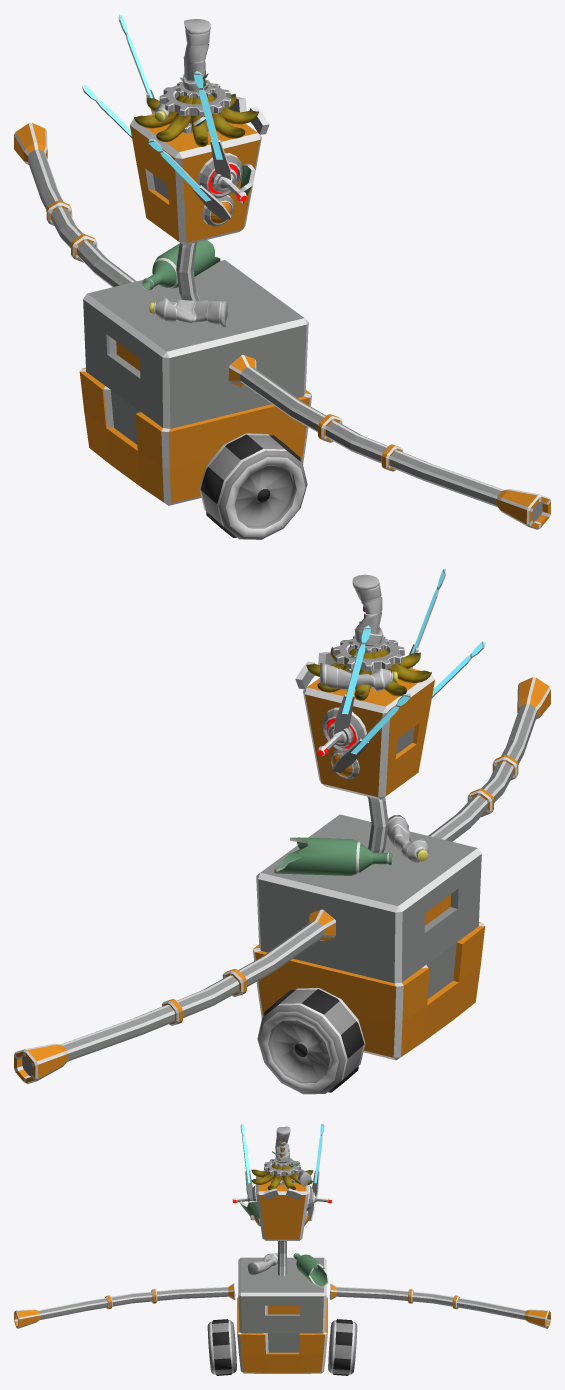
Rendered from Robot, antennas and perks.fbx.
The picture shows the model from 3 angles, top to bottom: view 1: azimuth 30°, elevation 25°; view 2: azimuth 150°, elevation 25°; view 3: azimuth 270°, elevation 25°; orthographic projection. The views are drawn at different scales.
Parts seen in each view (by area): view 1: Body, Arms_curved, Perk_02_2, Antenna_02, Perk_05_2, Perk_03_3, Perk_01_2, Antenna_03; view 2: Body, Arms_curved, Perk_02_2, Antenna_02, Perk_03_3, Perk_05_2, Perk_01_2, Antenna_03; view 3: Body, Arms_curved, Perk_02_2, Perk_03_3, Antenna_02, Perk_05_2, Perk_01_2, Antenna_03.
Boxes of the visible parts, x1=… form: Body: x1=79, y1=97, x2=311, y2=539; Arms_curved: x1=14, y1=123, x2=550, y2=529; Perk_02_2: x1=149, y1=19, x2=227, y2=327; Antenna_02: x1=82, y1=14, x2=234, y2=226; Perk_05_2: x1=134, y1=79, x2=258, y2=146; Perk_03_3: x1=142, y1=73, x2=255, y2=290; Perk_01_2: x1=159, y1=80, x2=231, y2=133; Antenna_03: x1=197, y1=153, x2=246, y2=201; Body: x1=252, y1=651, x2=485, y2=1094; Arms_curved: x1=14, y1=677, x2=550, y2=1084; Perk_02_2: x1=319, y1=574, x2=428, y2=862; Antenna_02: x1=330, y1=568, x2=485, y2=779; Perk_03_3: x1=274, y1=621, x2=392, y2=875; Perk_05_2: x1=306, y1=647, x2=431, y2=700; Perk_01_2: x1=333, y1=635, x2=404, y2=688; Antenna_03: x1=317, y1=707, x2=366, y2=756; Body: x1=207, y1=1176, x2=357, y2=1375; Arms_curved: x1=14, y1=1283, x2=550, y2=1328; Perk_02_2: x1=247, y1=1126, x2=311, y2=1274; Perk_03_3: x1=239, y1=1149, x2=328, y2=1287; Antenna_02: x1=240, y1=1123, x2=324, y2=1226; Perk_05_2: x1=251, y1=1158, x2=313, y2=1189; Perk_01_2: x1=264, y1=1157, x2=301, y2=1185; Antenna_03: x1=232, y1=1185, x2=332, y2=1211.
Size of the model in its own units: 90.89 by 221 by 438.
